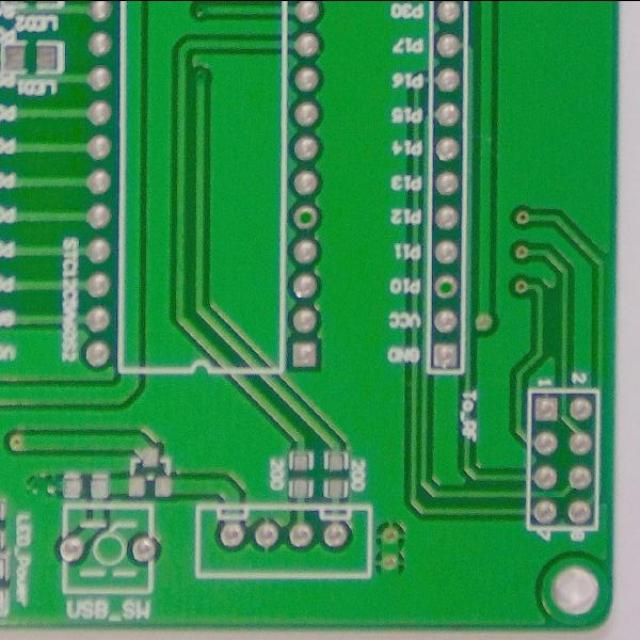Missing_Hole: (290, 202, 321, 232), (434, 272, 460, 302)
